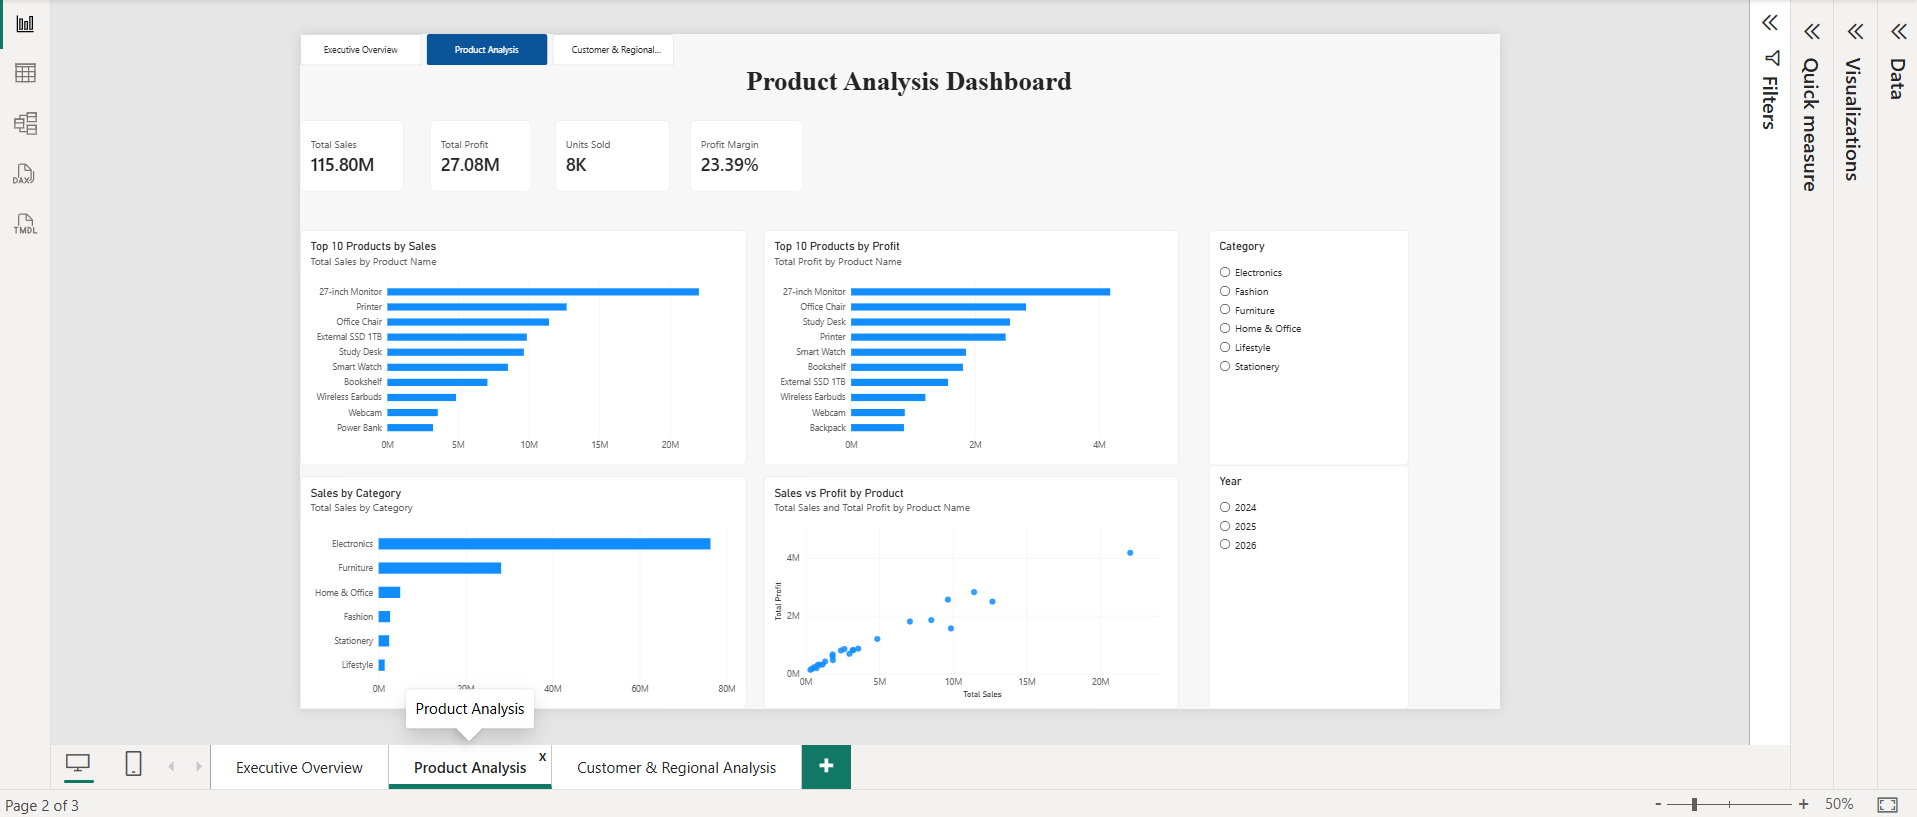

The dashboard page shown, as its layout file describes it:
{"tool":"powerbi","page":{"name":"Product Analysis","canvas":[1920,1080],"ordinal":1},"visuals":[{"type":"textbox","box":[714,50,588,88],"z":0},{"type":"cardVisual","fields":{"Data":["Raw_Sales_Data.Total Sales"]},"box":[0,138,166,114],"z":1000},{"type":"cardVisual","fields":{"Data":["Raw_Sales_Data.Total Profit"]},"box":[208,138,162,114],"z":2000},{"type":"cardVisual","fields":{"Data":["Raw_Sales_Data.Units Sold"]},"box":[408,138,184,114],"z":3000},{"type":"cardVisual","fields":{"Data":["Raw_Sales_Data.Profit Margin"]},"box":[624,138,180,114],"z":4000},{"type":"clusteredBarChart","title":"Top 10 Products by Sales","fields":{"Category":["Raw_Sales_Data.Product Name"],"Y":["Raw_Sales_Data.Total Sales"]},"box":[0,314,714,376],"z":5000},{"type":"clusteredBarChart","title":"Sales by Category","fields":{"Category":["Raw_Sales_Data.Category"],"Y":["Raw_Sales_Data.Total Sales"]},"box":[0,708,714,372],"z":6000},{"type":"clusteredBarChart","title":"Top 10 Products by Profit","fields":{"Category":["Raw_Sales_Data.Product Name"],"Y":["Raw_Sales_Data.Total Profit"]},"box":[742,314,664,376],"z":7000},{"type":"scatterChart","title":"Sales vs Profit by Product","fields":{"Category":["Raw_Sales_Data.Product Name"],"X":["Raw_Sales_Data.Total Sales"],"Y":["Raw_Sales_Data.Total Profit"]},"box":[742,708,664,372],"z":8000},{"type":"listSlicer","fields":{"Values":["Raw_Sales_Data.Category"]},"box":[1454,314,320,376],"z":9000},{"type":"listSlicer","fields":{"Values":["Raw_Sales_Data.Order Date.Variation.Date Hierarchy.Year"]},"box":[1454,690,320,390],"z":10000},{"type":"pageNavigator","box":[0,0,600,50],"z":10001}]}

Visuals, with their boxes on the page's 1920x1080 design canvas (x1, y1, x2, y2). These are canvas units, not pixel positions in the 1917x817 screenshot, which may show the page scaled, cropped or inside an application window:
textbox: locate(714, 50, 1302, 138)
cardVisual - Raw_Sales_Data.Total Sales: locate(0, 138, 166, 252)
cardVisual - Raw_Sales_Data.Total Profit: locate(208, 138, 370, 252)
cardVisual - Raw_Sales_Data.Units Sold: locate(408, 138, 592, 252)
cardVisual - Raw_Sales_Data.Profit Margin: locate(624, 138, 804, 252)
"Top 10 Products by Sales" clusteredBarChart: locate(0, 314, 714, 690)
"Sales by Category" clusteredBarChart: locate(0, 708, 714, 1080)
"Top 10 Products by Profit" clusteredBarChart: locate(742, 314, 1406, 690)
"Sales vs Profit by Product" scatterChart: locate(742, 708, 1406, 1080)
listSlicer - Raw_Sales_Data.Category: locate(1454, 314, 1774, 690)
listSlicer - Raw_Sales_Data.Order Date.Variation.Date Hierarchy.Year: locate(1454, 690, 1774, 1080)
pageNavigator: locate(0, 0, 600, 50)
